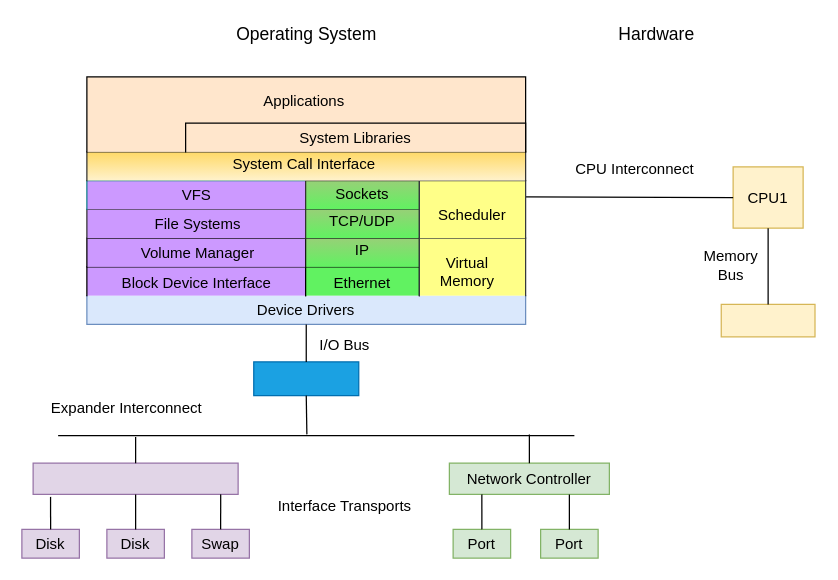
This 838x580 diagram has some shape labels left out. The shapes that lost their labels are listed below. From the top down, each one's centre as x and y in pixels, then its label:
At [767,320]: "DRAM".
At [305,378]: "I/O Bridge".
At [135,478]: "I/O Controller".
